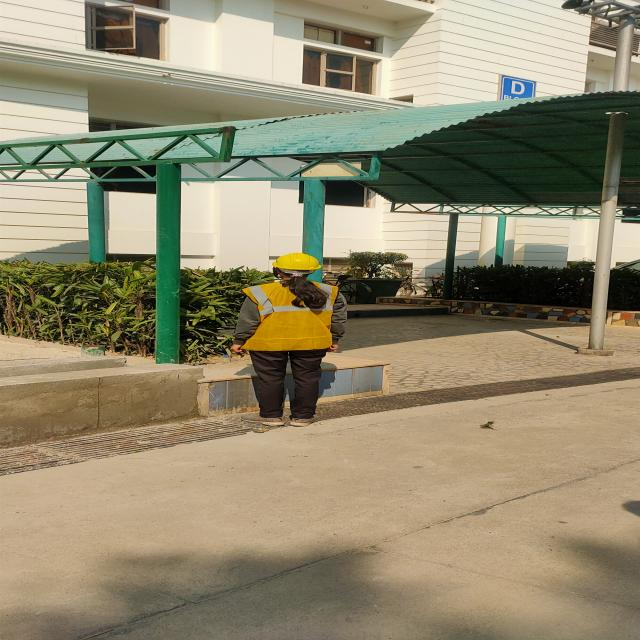unsafe: (234, 253, 346, 425)
